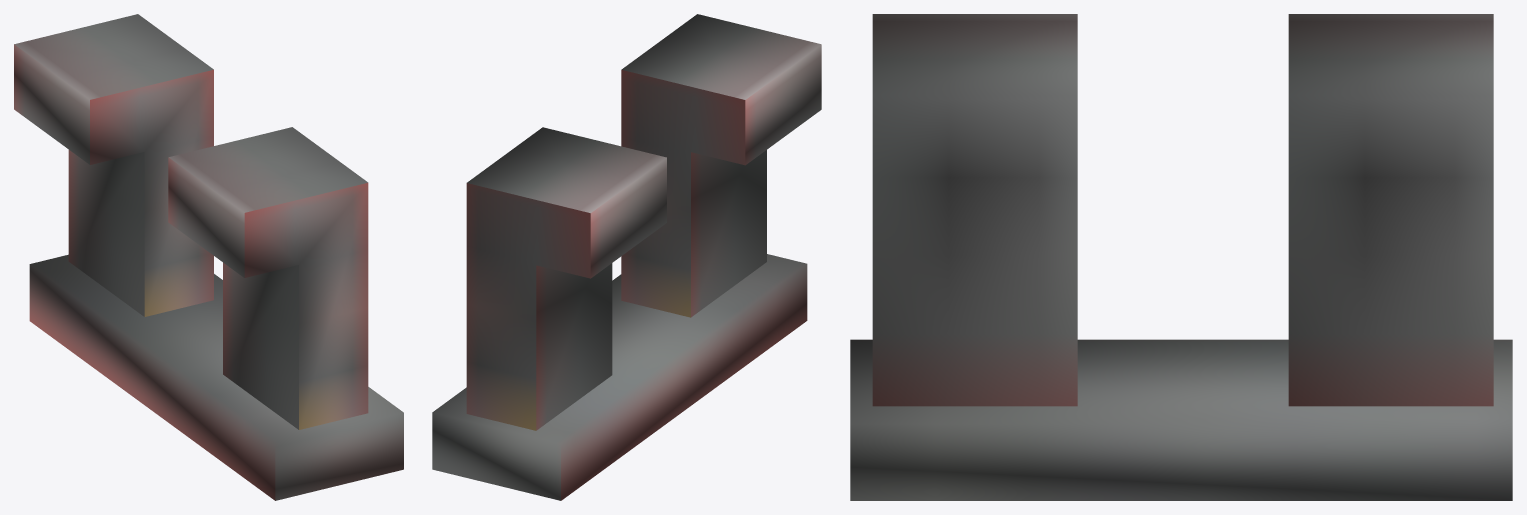
File: Metal2.FBX
3 views of the same model, side by side, from view 1: azimuth 30°, elevation 25°; view 2: azimuth 150°, elevation 25°; view 3: azimuth 270°, elevation 25° (orthographic). The views are drawn at different scales.
Parts seen in each view (by area): view 1: Metal2; view 2: Metal2; view 3: Metal2.
Boxes of the visible parts, x1,y1,x2,y2 form: Metal2: [14, 14, 403, 500]; Metal2: [432, 14, 821, 500]; Metal2: [850, 14, 1512, 500].
Size of the model in its own units: 3.78 by 6.87 by 10.64.
1 material, 1 textured.
